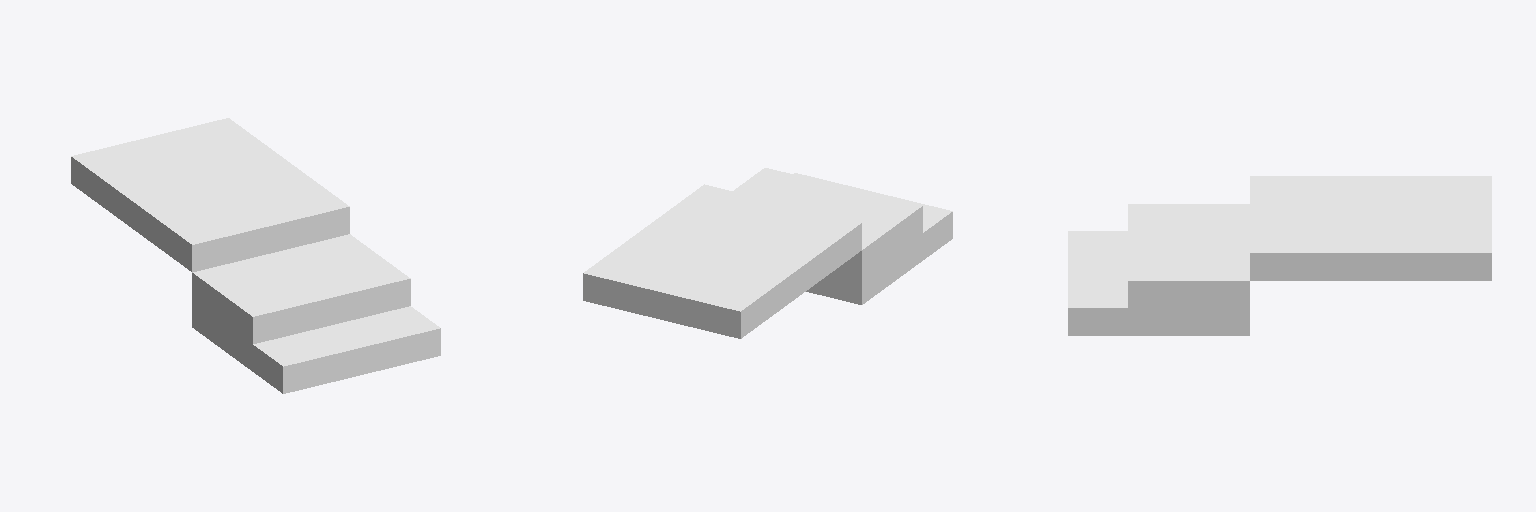
File: Extra-12-StarMarine_ThrusterHood_L.obj
3 renders of one model, left to right at view 1: azimuth 30°, elevation 25°; view 2: azimuth 150°, elevation 25°; view 3: azimuth 270°, elevation 25°, orthographic.
Visible parts, largest first — view 1: StarMarine_ThrusterHood_L; view 2: StarMarine_ThrusterHood_L; view 3: StarMarine_ThrusterHood_L.
Boxes of the visible parts, x1=… form: StarMarine_ThrusterHood_L: x1=71, y1=118, x2=440, y2=393; StarMarine_ThrusterHood_L: x1=583, y1=168, x2=952, y2=338; StarMarine_ThrusterHood_L: x1=1068, y1=176, x2=1491, y2=335.
Size of the model in its own units: 0.6 by 0.3 by 1.4.